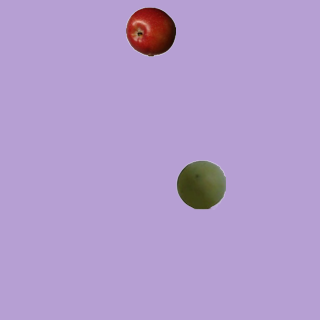Apple Braeburn: (125, 6, 175, 56)
Grape White 4: (175, 159, 225, 209)
